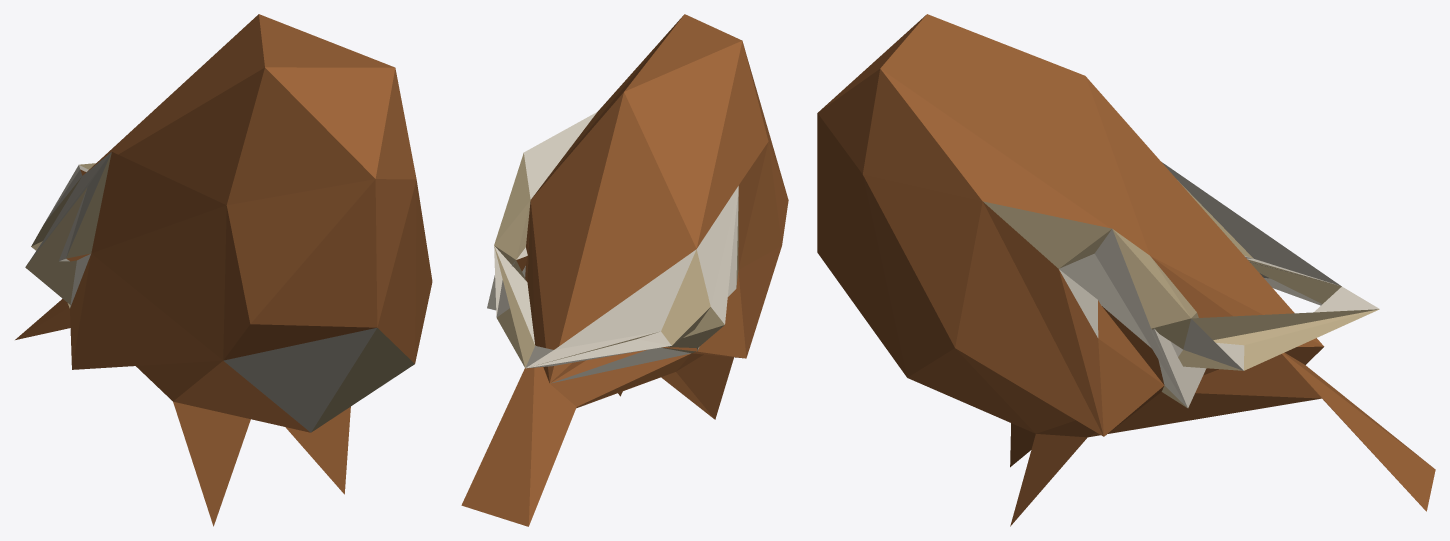
3 views of the same model, side by side, from view 1: azimuth 30°, elevation 25°; view 2: azimuth 150°, elevation 25°; view 3: azimuth 270°, elevation 25° (orthographic). The views are drawn at different scales.
Visible parts, largest first — view 1: lion-200; view 2: lion-200; view 3: lion-200.
Boxes of the visible parts, left/top/right/bottom form: lion-200: left=15, top=14, right=432, bottom=526; lion-200: left=461, top=14, right=788, bottom=526; lion-200: left=817, top=14, right=1435, bottom=526.
Bounding box in the file's own units: 0.505 × 0.7288 × 0.8945.
